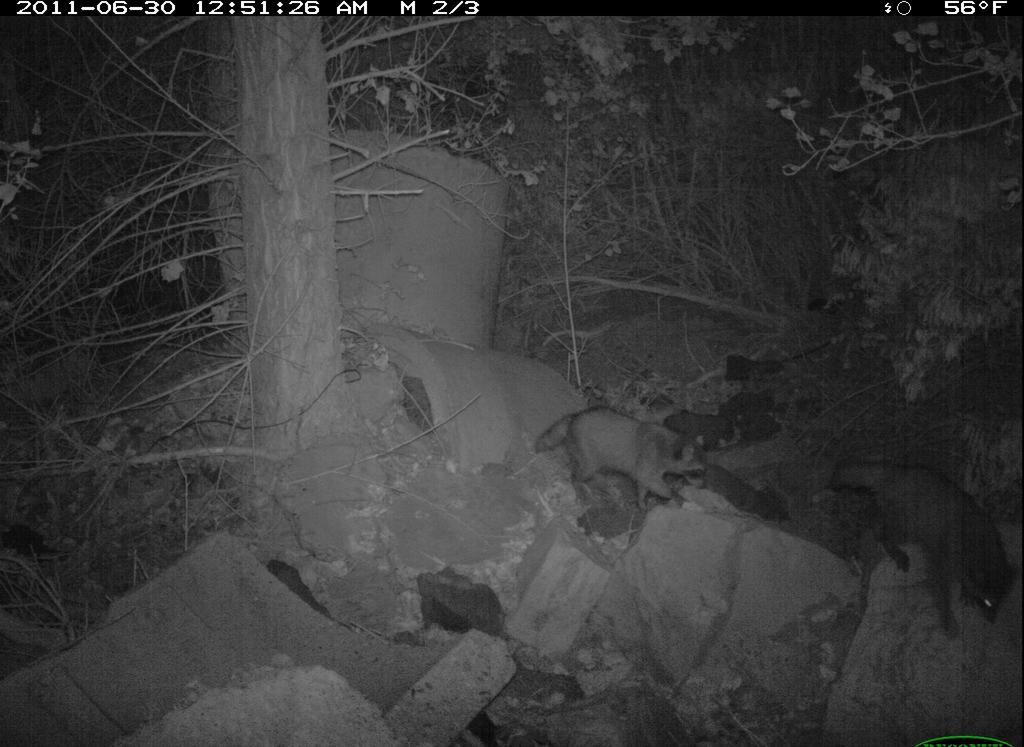raccoon: (826, 440, 1019, 639), (532, 402, 715, 515)
